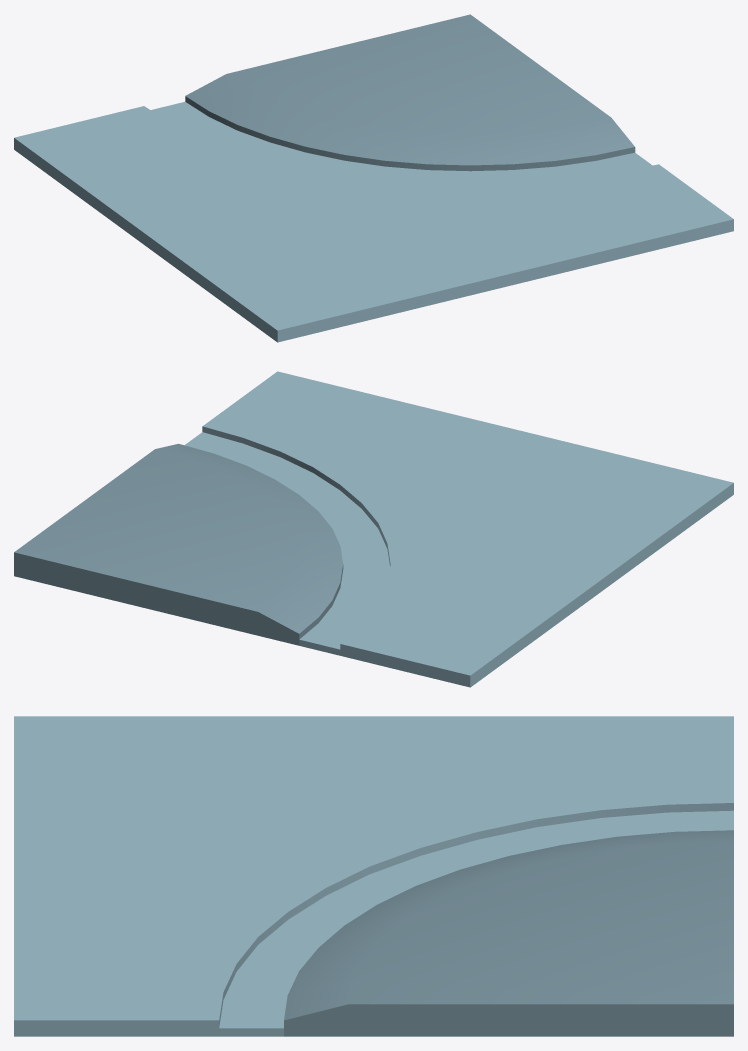
File: roadCorner.obj
3 renders of one model, top to bottom at view 1: azimuth 30°, elevation 25°; view 2: azimuth 150°, elevation 25°; view 3: azimuth 270°, elevation 25°, orthographic. The views are drawn at different scales.
Visible parts, largest first — view 1: roadCorner; view 2: roadCorner; view 3: roadCorner.
Part boxes in pixels (<box>): roadCorner: <box>14,14,733,342</box>; roadCorner: <box>14,371,733,687</box>; roadCorner: <box>14,716,733,1036</box>.
Bounding box in the file's own units: 1 × 0.05 × 1.
